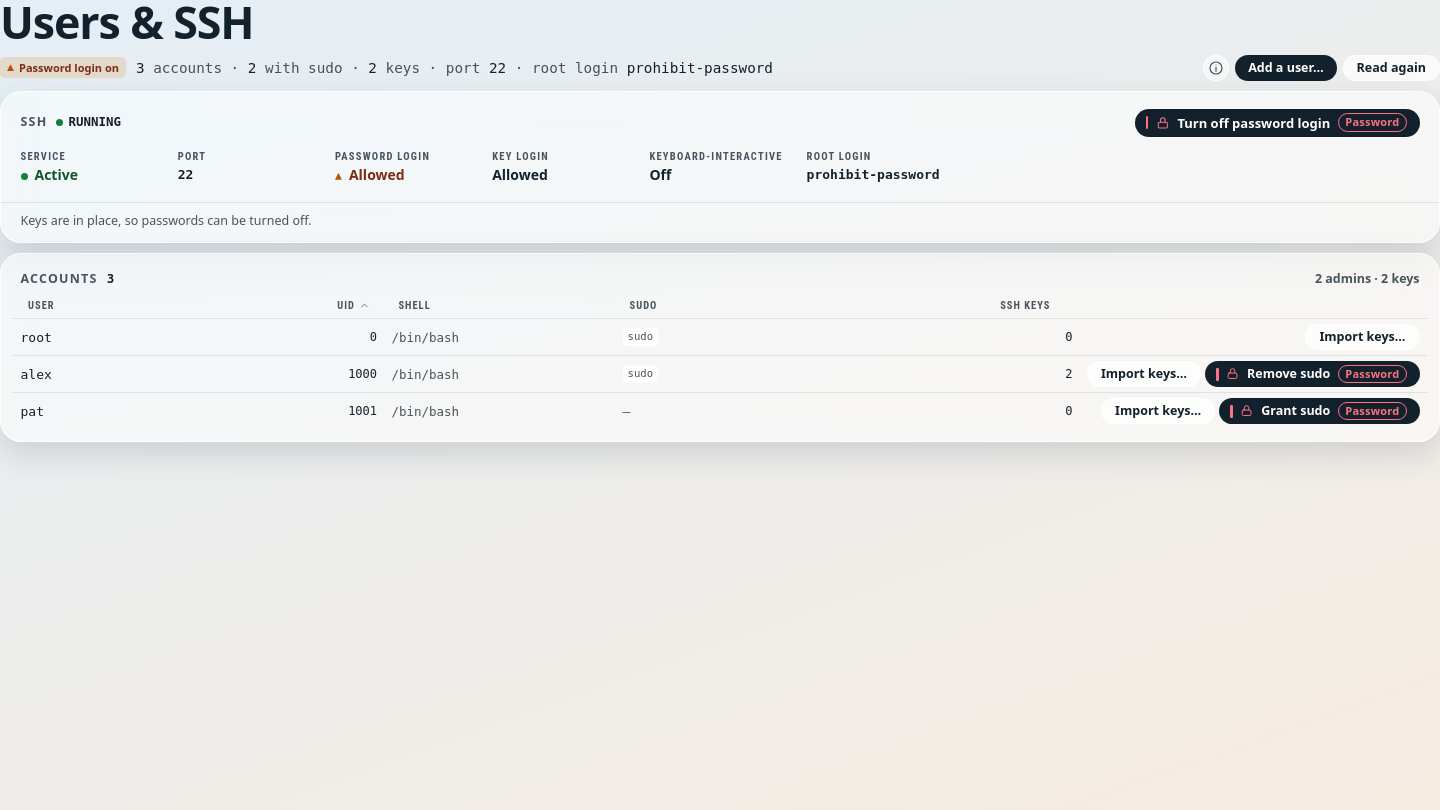
Test case: Users & SSH page › adds a user from a sheet, refusing a name useradd would refuse
Expected: the text "Password login on" is shown, left=0, top=57, right=126, bottom=78
Click the button "Add a user…": (1286, 68) left=1235, top=55, right=1337, bottom=81
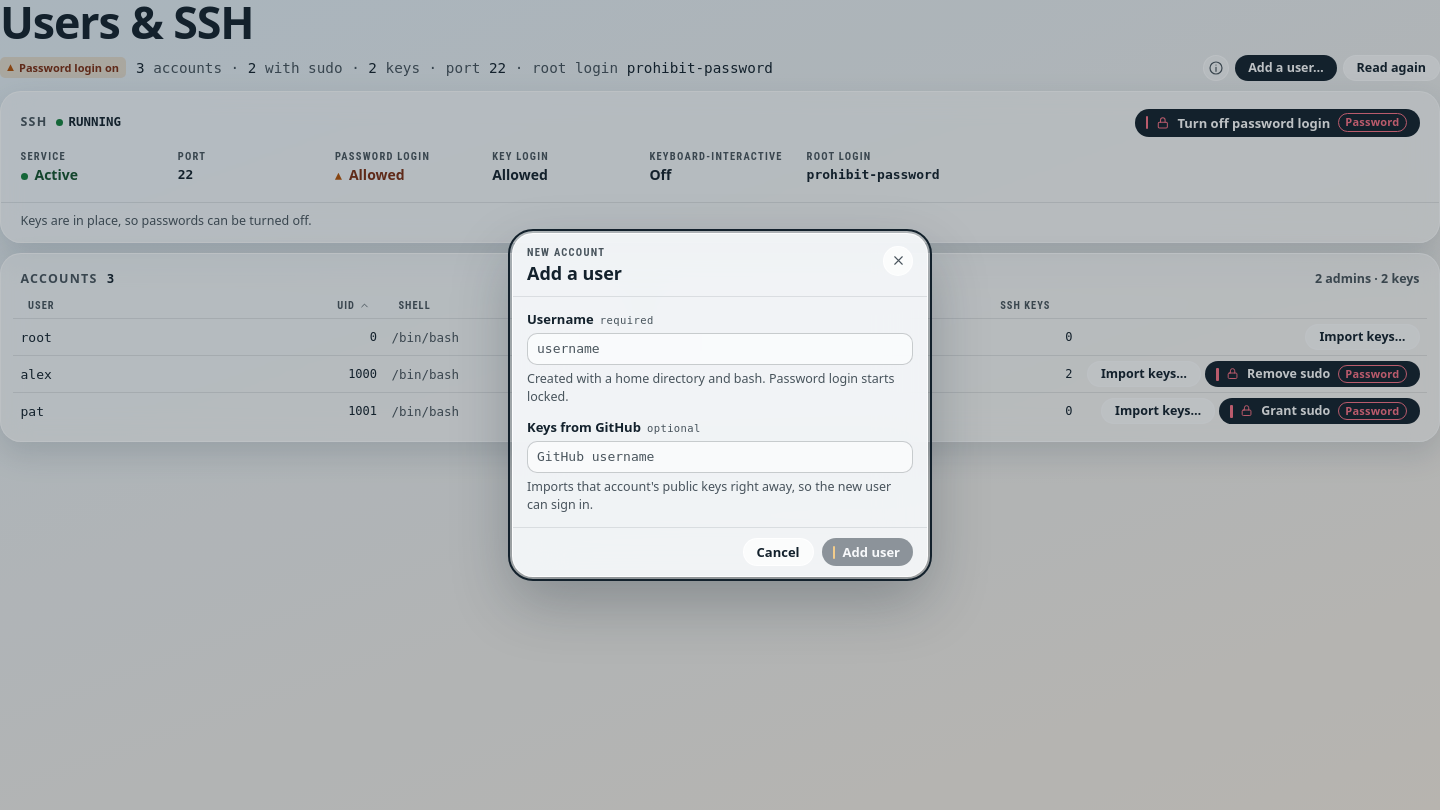
In the field labelled "Username required": (720, 349) left=527, top=333, right=913, bottom=365, type "9lives"
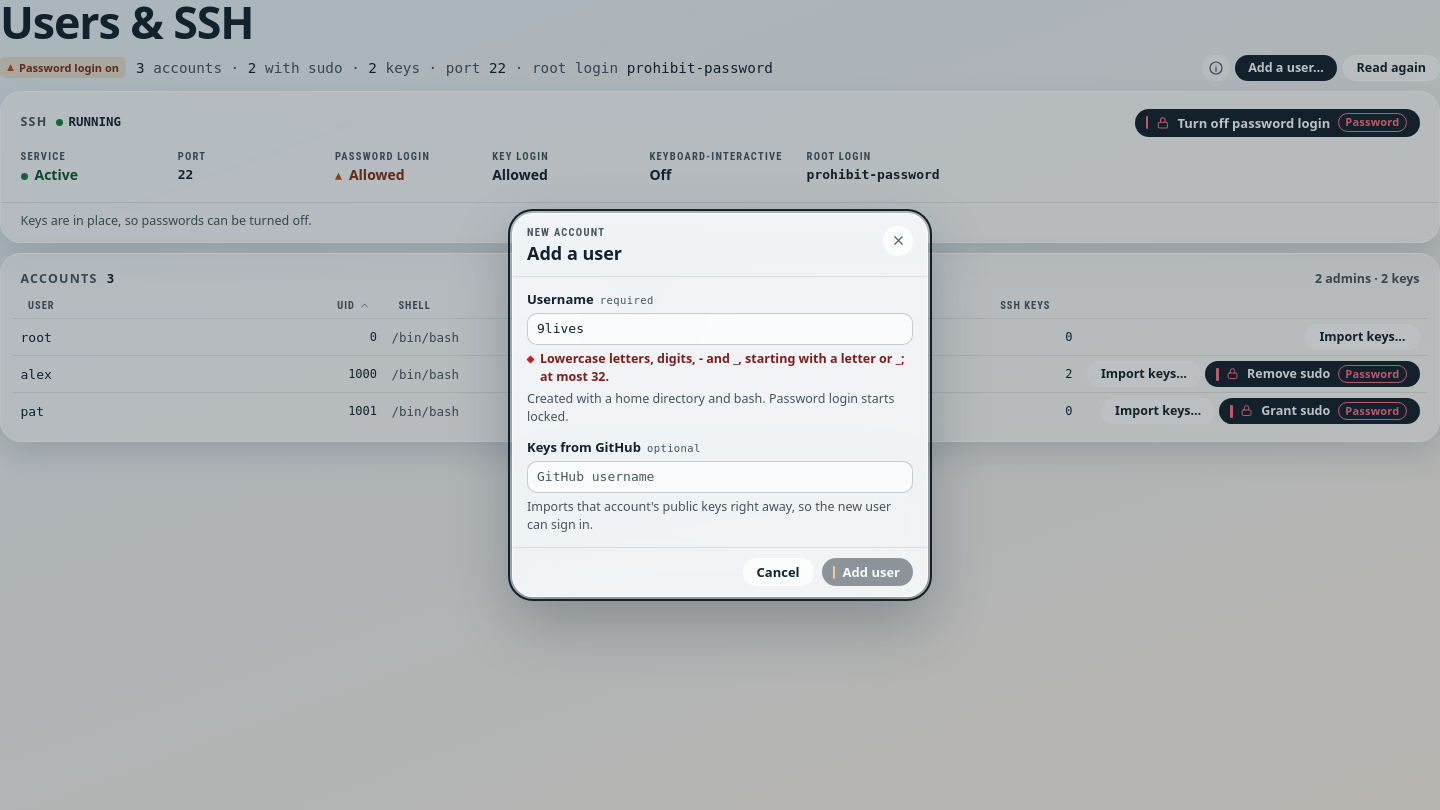
Expected: the button "Add user" is disabled, left=822, top=558, right=913, bottom=586
Expected: the text "starting with a letter" is shown, left=540, top=350, right=904, bottom=385
Replace the text in the field labelled "Username required" with "Sam": (720, 329) left=527, top=313, right=913, bottom=345
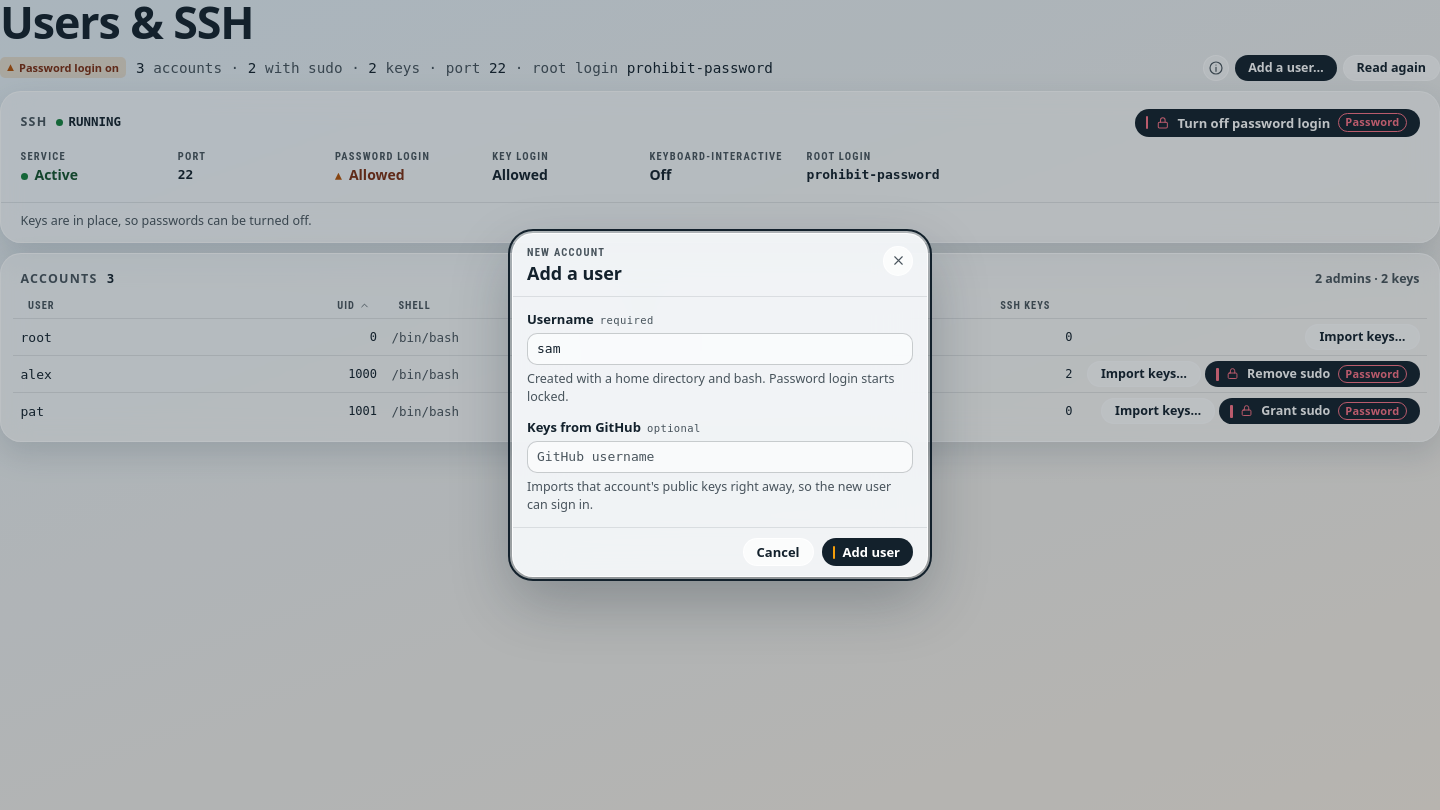
Click the button "Add user": (867, 552) left=822, top=538, right=913, bottom=566
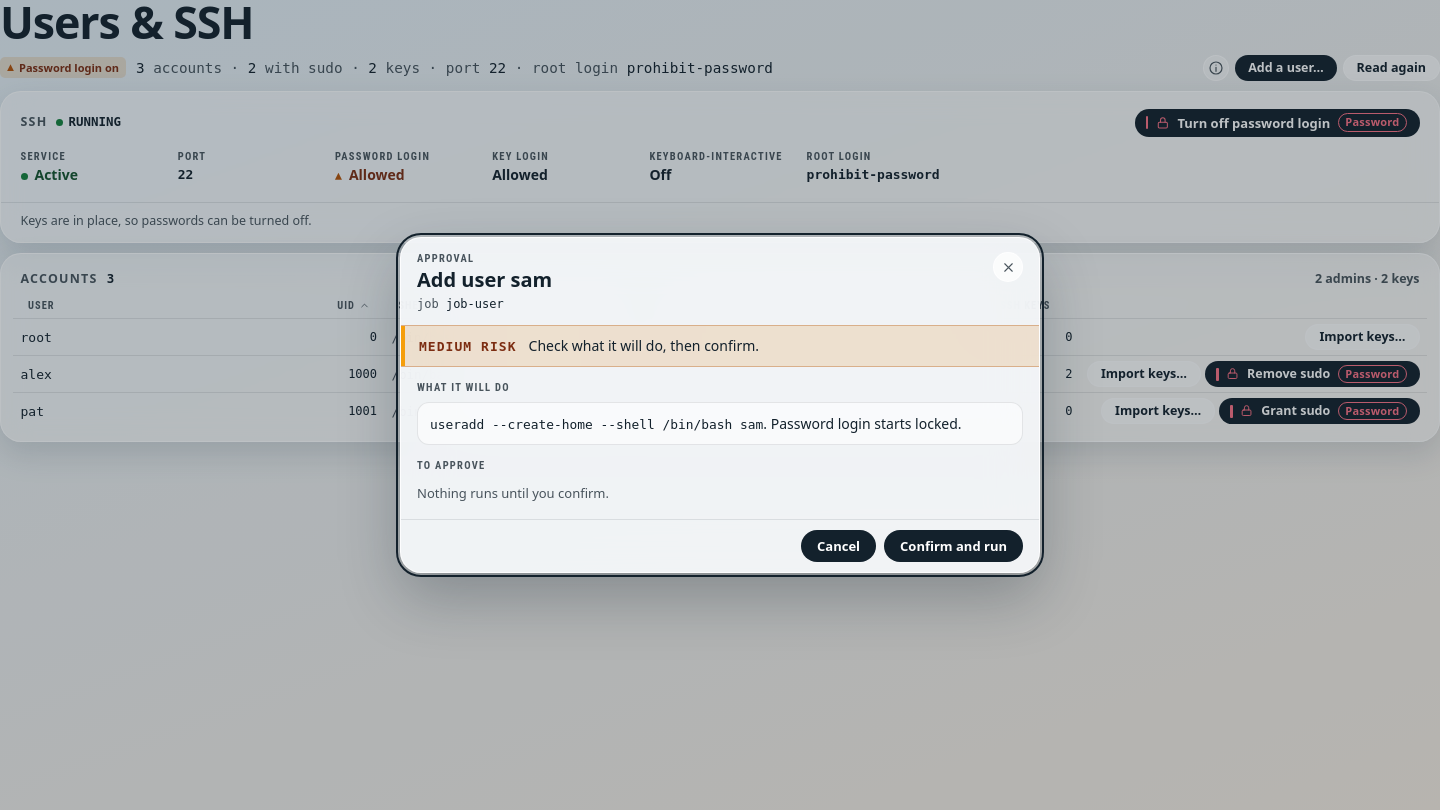
Expected: the text "Medium risk" is shown, left=419, top=339, right=516, bottom=354
